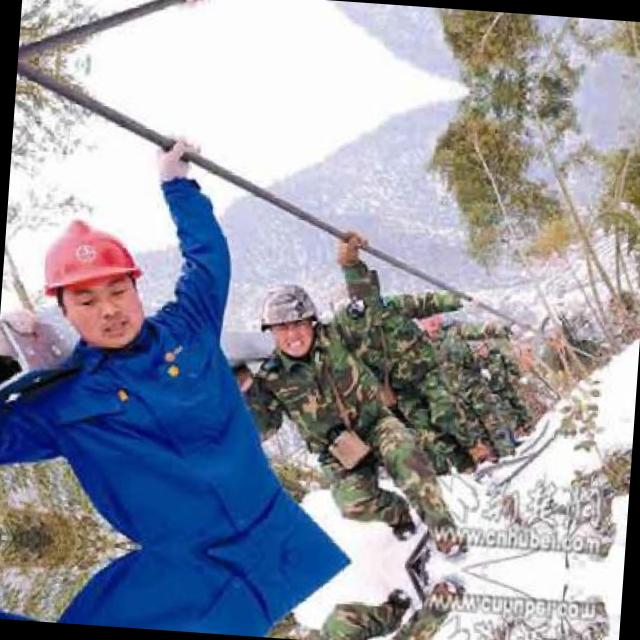helmet: (31, 206, 162, 354), (249, 270, 326, 362)
